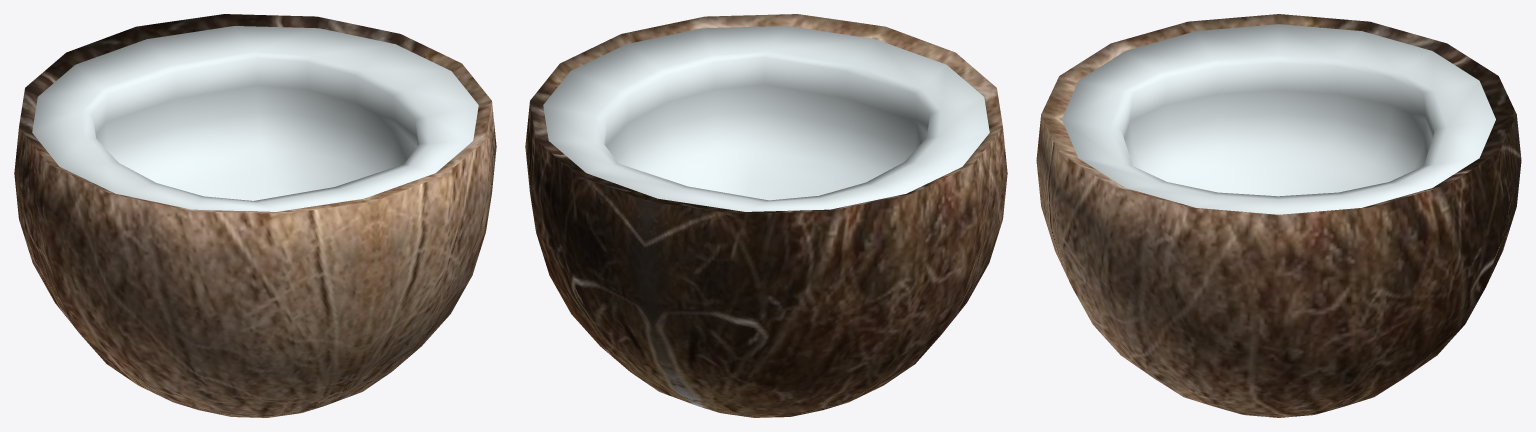
The model's file is coconut.fbx.
The picture shows the model from 3 angles, left to right: view 1: azimuth 30°, elevation 25°; view 2: azimuth 150°, elevation 25°; view 3: azimuth 270°, elevation 25°; orthographic projection.
Visible parts, largest first — view 1: coconut (exterior), coconut meat; view 2: coconut (exterior), coconut meat; view 3: coconut (exterior), coconut meat.
Part boxes in pixels (x1,y1,x2,y2): coconut (exterior): (14, 14, 496, 417); coconut meat: (32, 26, 478, 211); coconut (exterior): (525, 14, 1007, 417); coconut meat: (543, 26, 989, 211); coconut (exterior): (1036, 14, 1521, 417); coconut meat: (1062, 24, 1495, 214).
Bounding box in the file's own units: 1 × 0.642 × 1.
